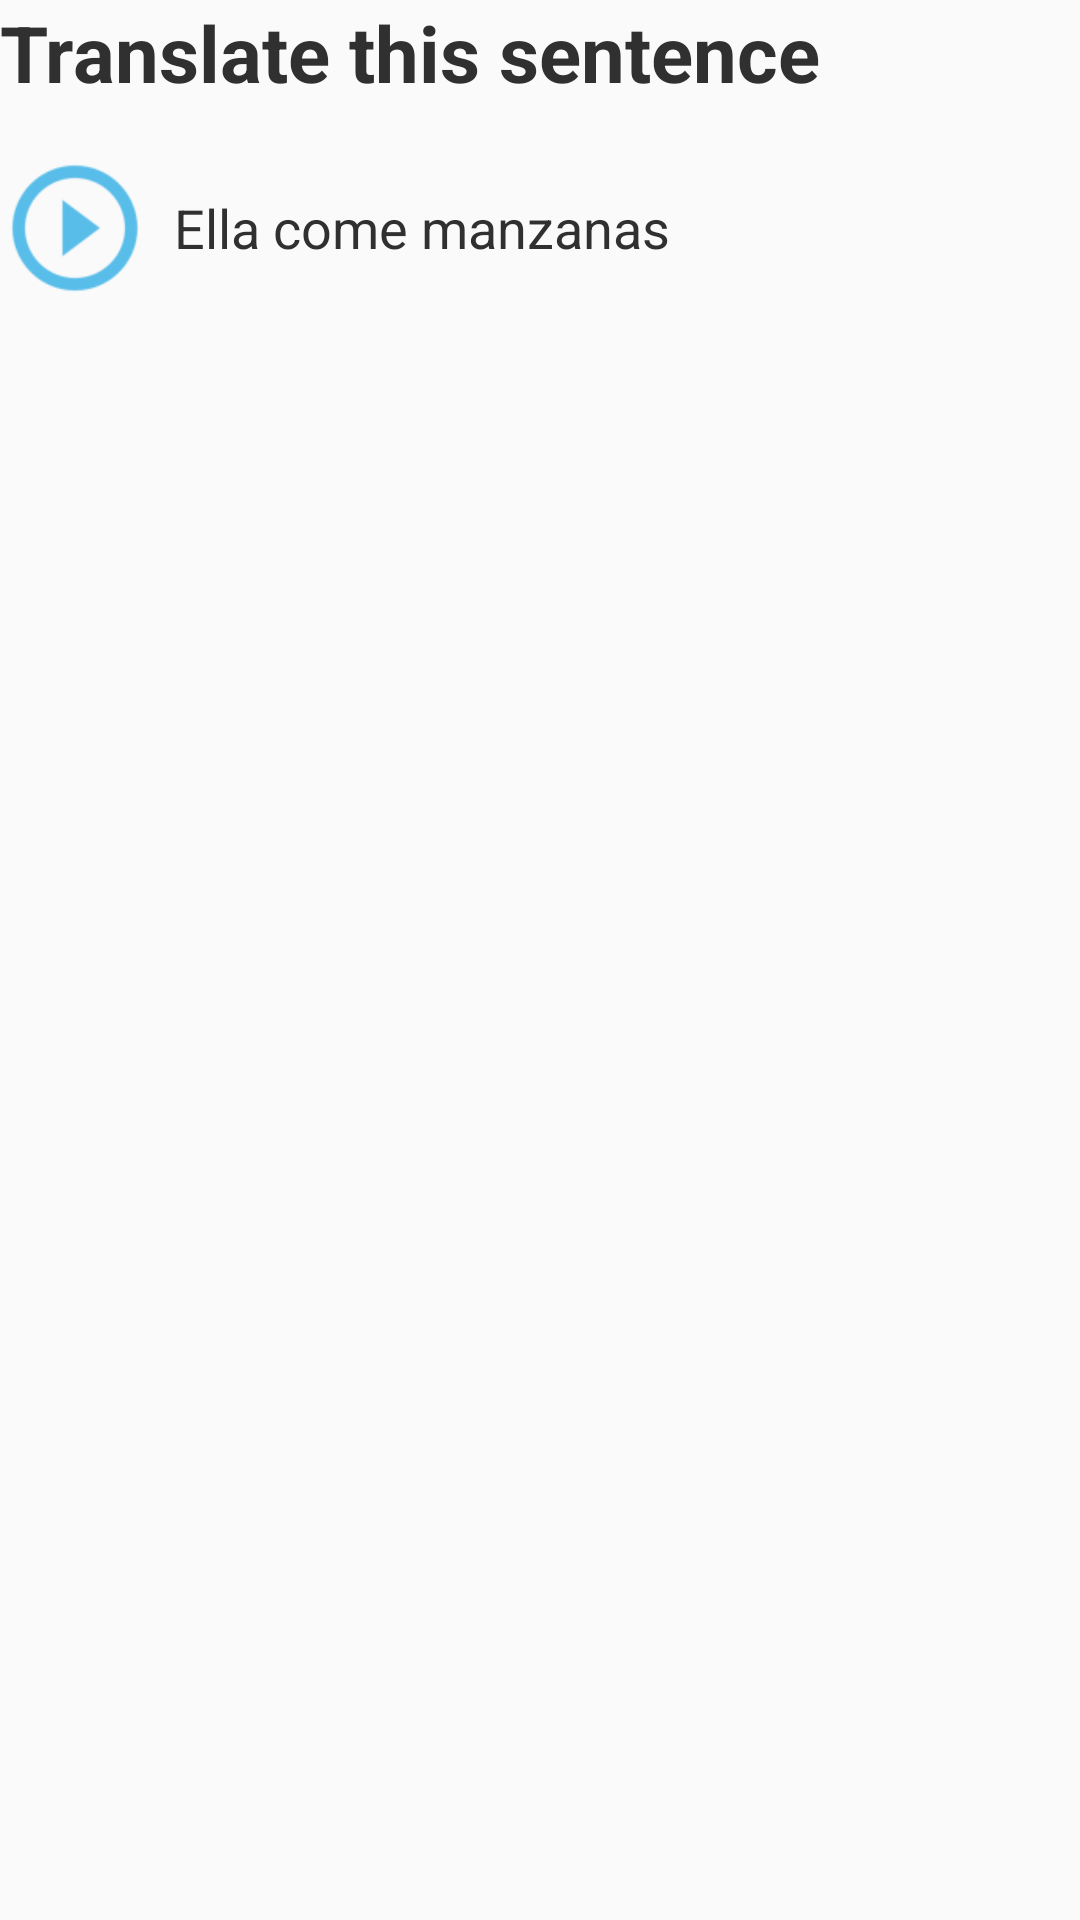

Icons on this 1080×1920 Android screen, each with its box as (x1, y1, x2, y2):
play voice: (12, 165, 138, 291)
